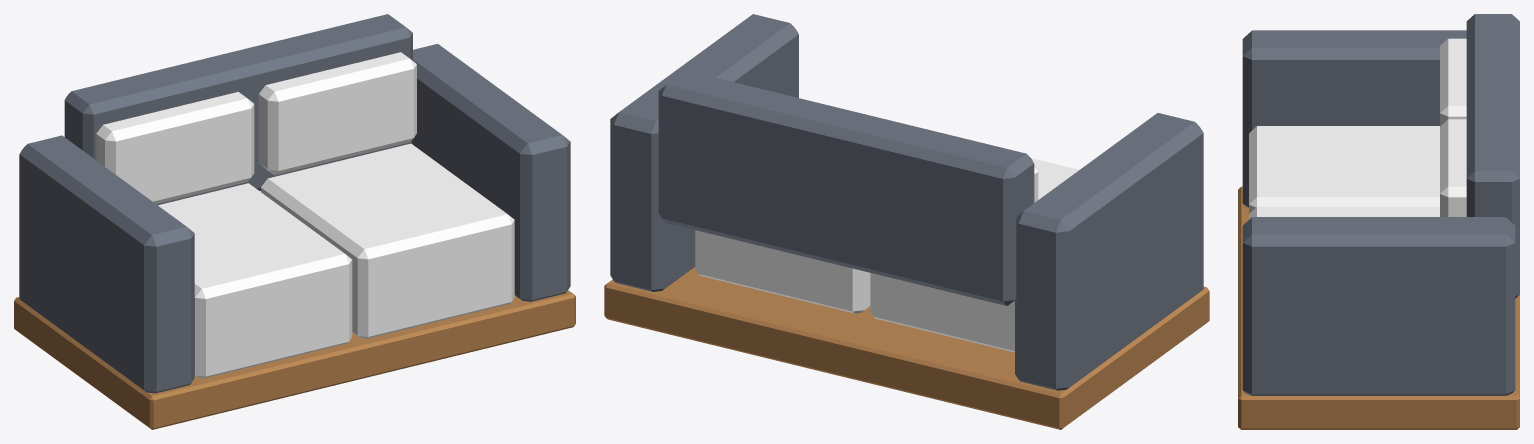
The model's file is sofa-2seat.glb.
The picture shows the model from 3 angles, left to right: view 1: azimuth 30°, elevation 25°; view 2: azimuth 150°, elevation 25°; view 3: azimuth 270°, elevation 25°; orthographic projection. The views are drawn at different scales.
Visible parts, largest first — view 1: sofa-2seat.tint, sofa-2seat.fabric, sofa-2seat.wood; view 2: sofa-2seat.fabric, sofa-2seat.wood, sofa-2seat.tint; view 3: sofa-2seat.fabric, sofa-2seat.tint, sofa-2seat.wood.
Part boxes in pixels (x1=…): sofa-2seat.tint: x1=96, y1=52, x2=514, y2=378; sofa-2seat.fabric: x1=19, y1=14, x2=570, y2=393; sofa-2seat.wood: x1=14, y1=290, x2=575, y2=429; sofa-2seat.fabric: x1=610, y1=14, x2=1203, y2=390; sofa-2seat.wood: x1=604, y1=267, x2=1209, y2=429; sofa-2seat.tint: x1=695, y1=158, x2=1079, y2=352; sofa-2seat.fabric: x1=1242, y1=14, x2=1519, y2=395; sofa-2seat.tint: x1=1249, y1=38, x2=1466, y2=219; sofa-2seat.wood: x1=1238, y1=186, x2=1519, y2=429.
Bounding box in the file's own units: 1.6 × 0.82 × 0.9.
